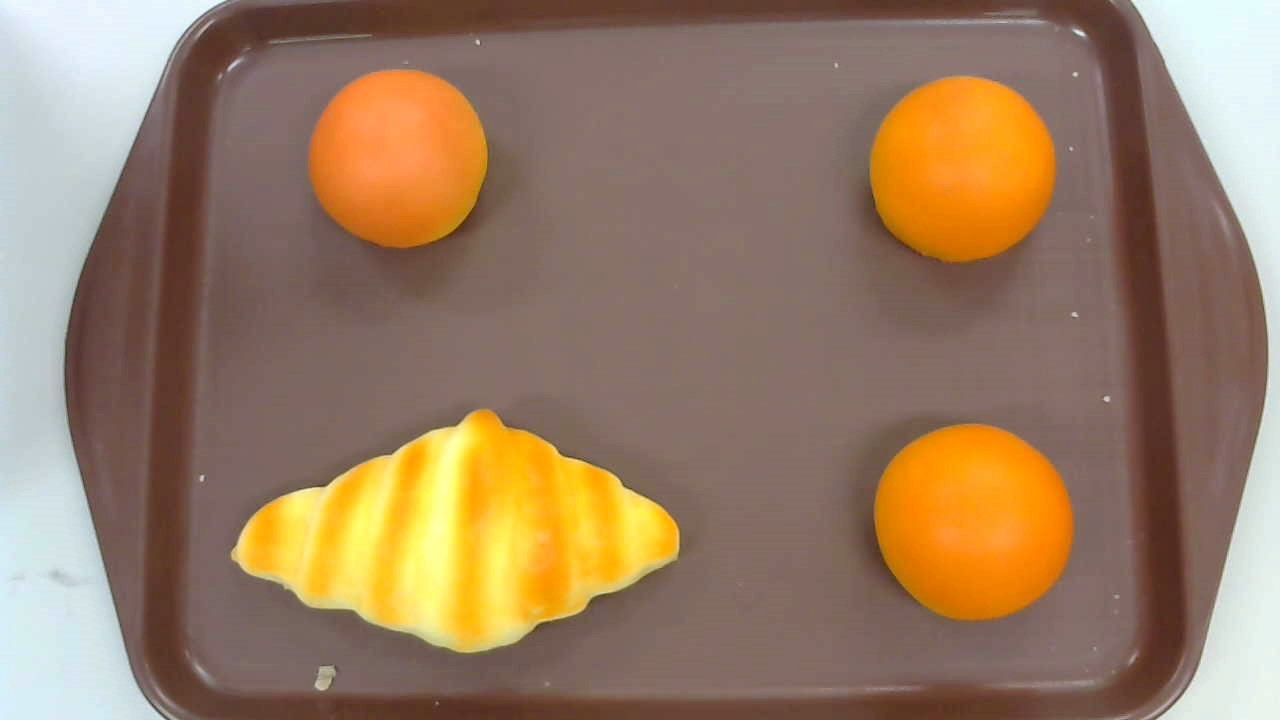bun: (871, 422, 1074, 623), (869, 76, 1055, 263), (307, 70, 487, 250)
croissant: (231, 407, 678, 654)
